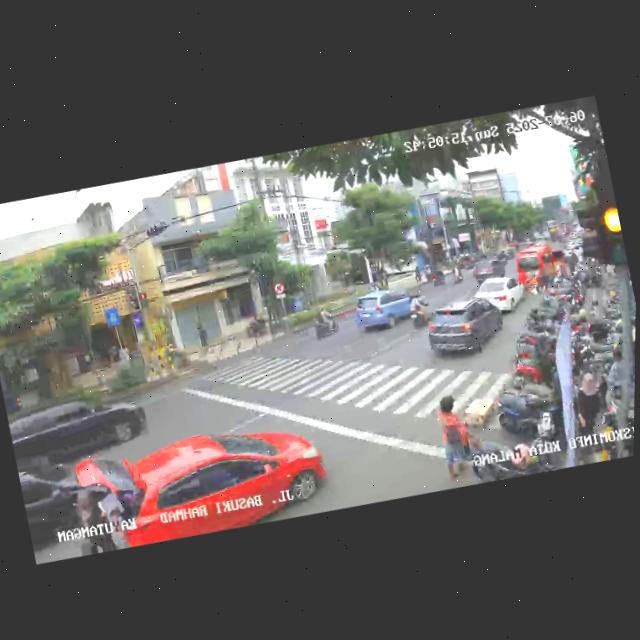car: (70, 406, 335, 561), (4, 376, 153, 481), (17, 452, 127, 557), (421, 290, 510, 367), (350, 282, 426, 341), (513, 240, 573, 296), (468, 270, 529, 319)
motorcycle: (307, 302, 341, 343), (404, 288, 430, 330)
person: (429, 391, 479, 480)
